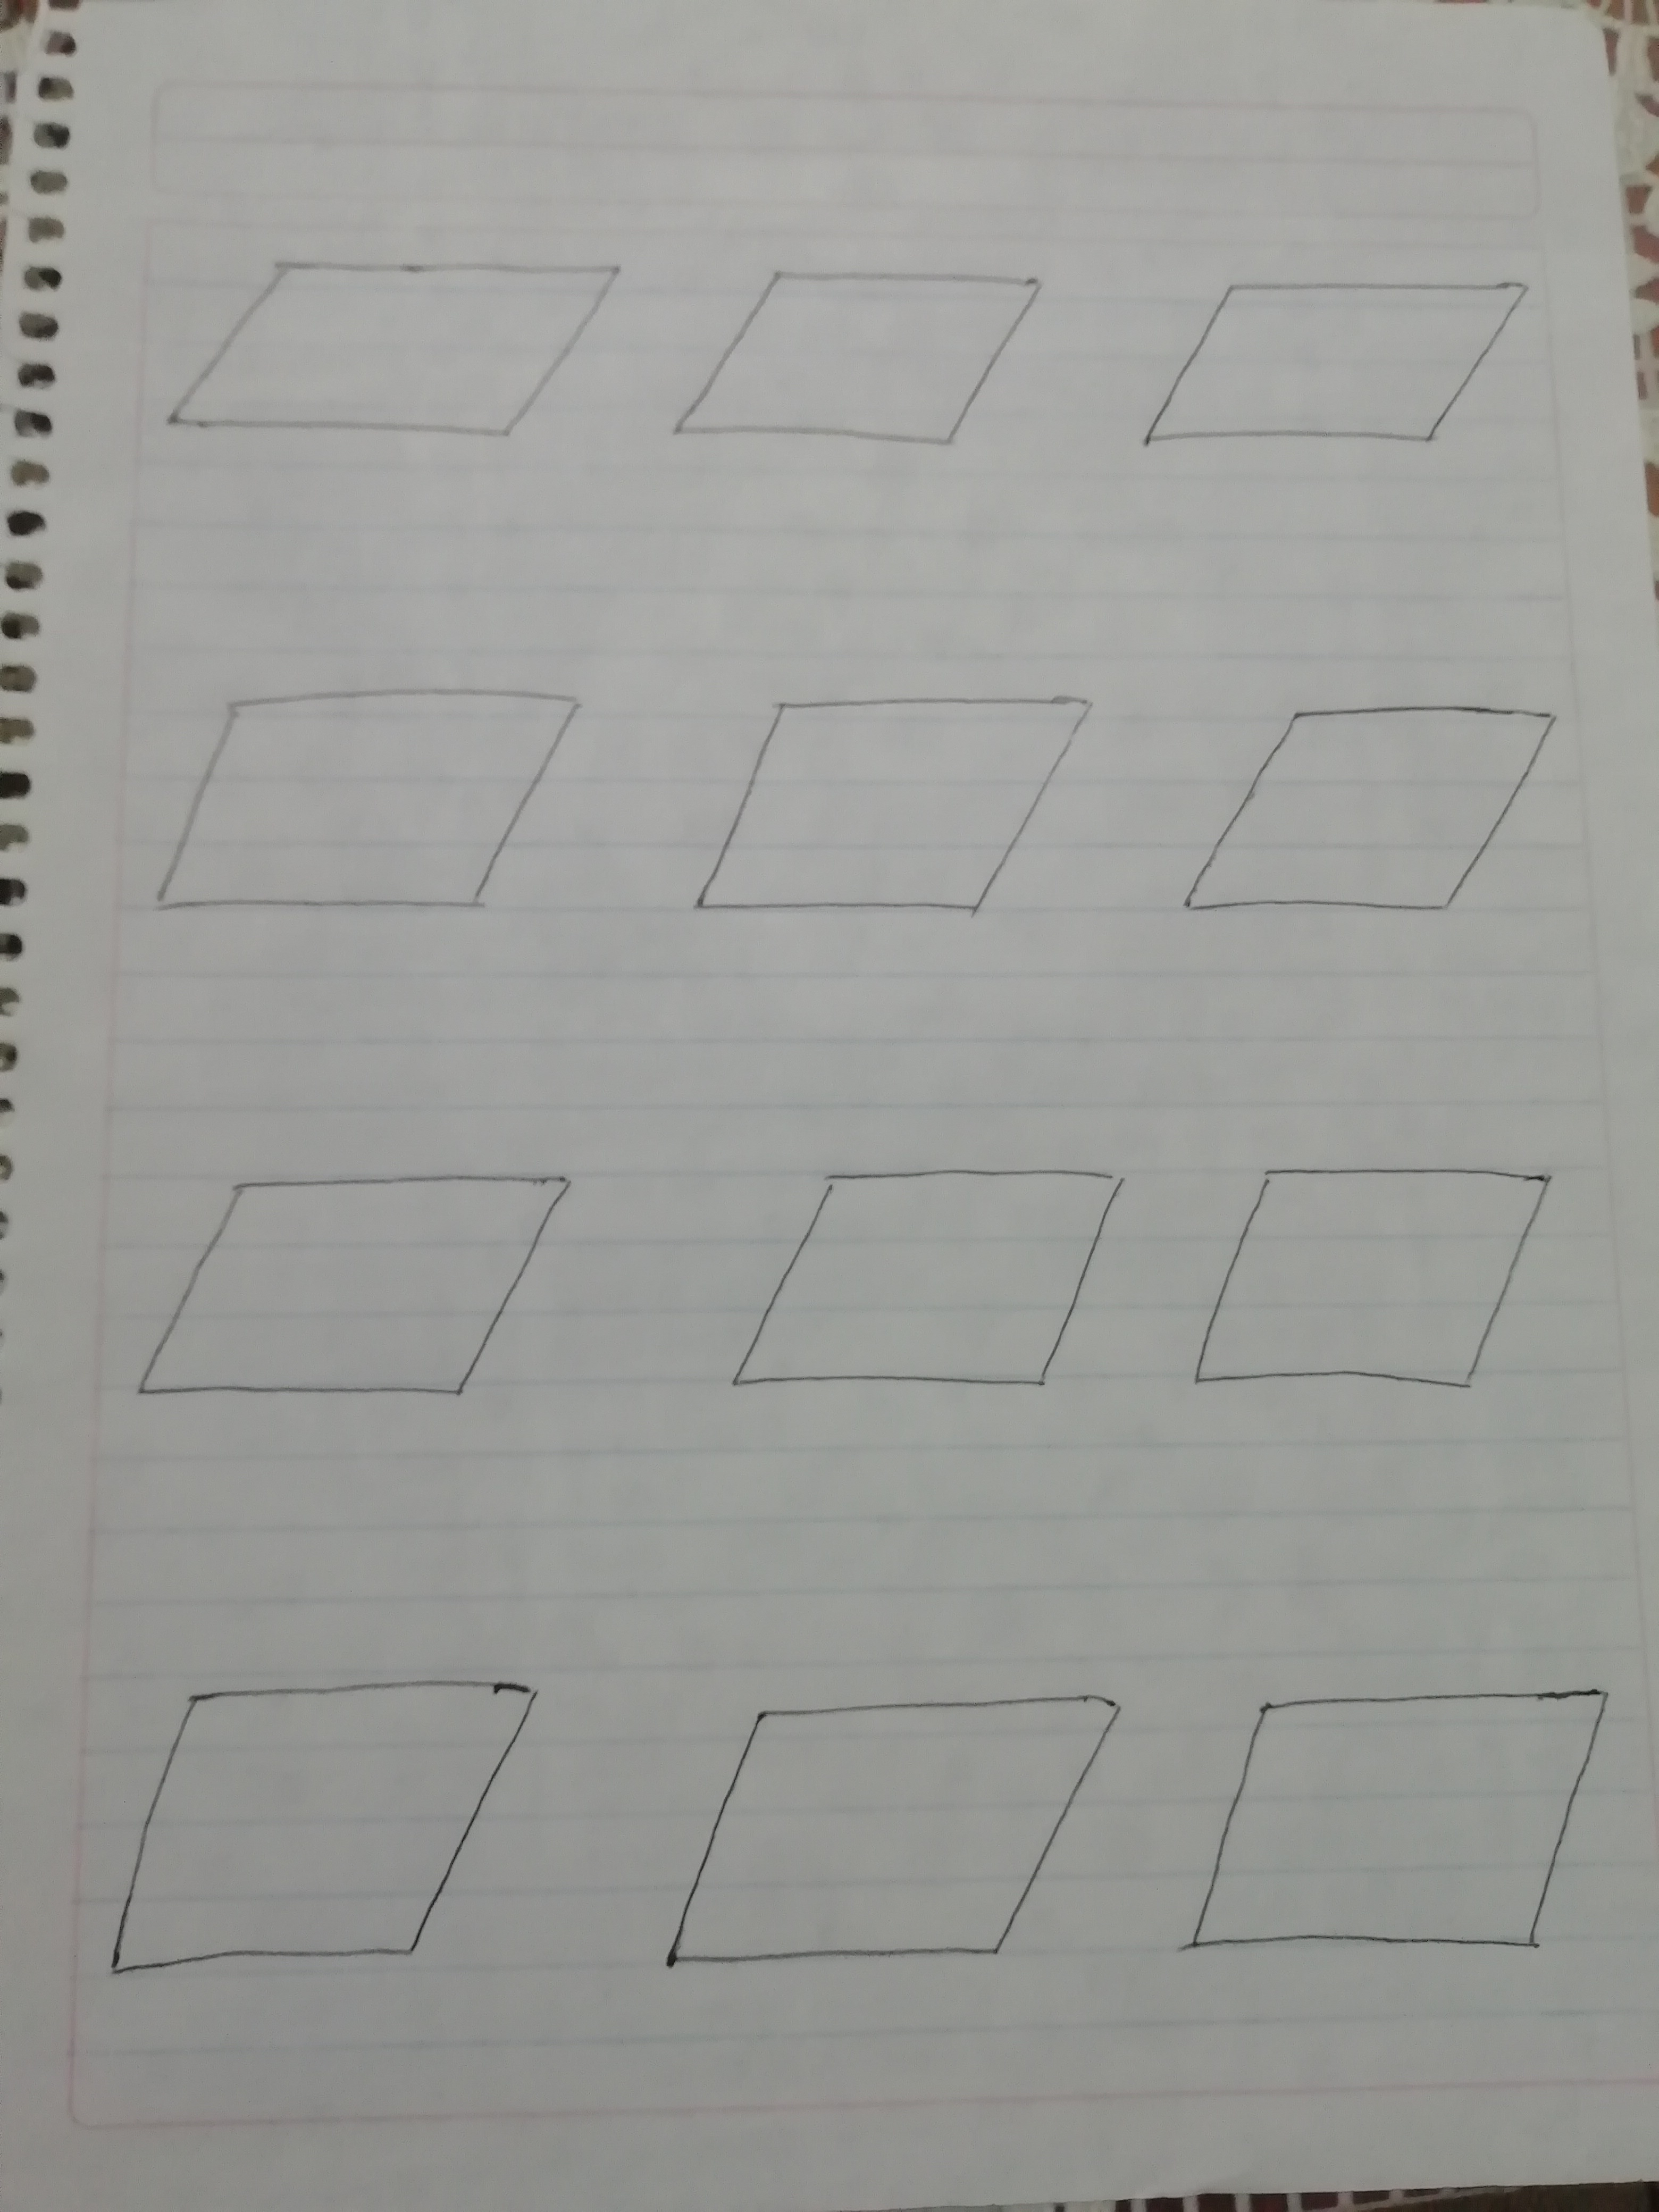scan: (84, 1641, 568, 2038), (47, 1137, 619, 1446), (101, 644, 615, 982), (640, 1662, 1157, 1996), (122, 195, 643, 503), (1157, 1660, 1640, 1979), (688, 1120, 1147, 1449), (667, 637, 1115, 958), (1150, 667, 1600, 968), (1168, 1144, 1596, 1425), (1112, 240, 1572, 486), (650, 233, 1079, 496)
